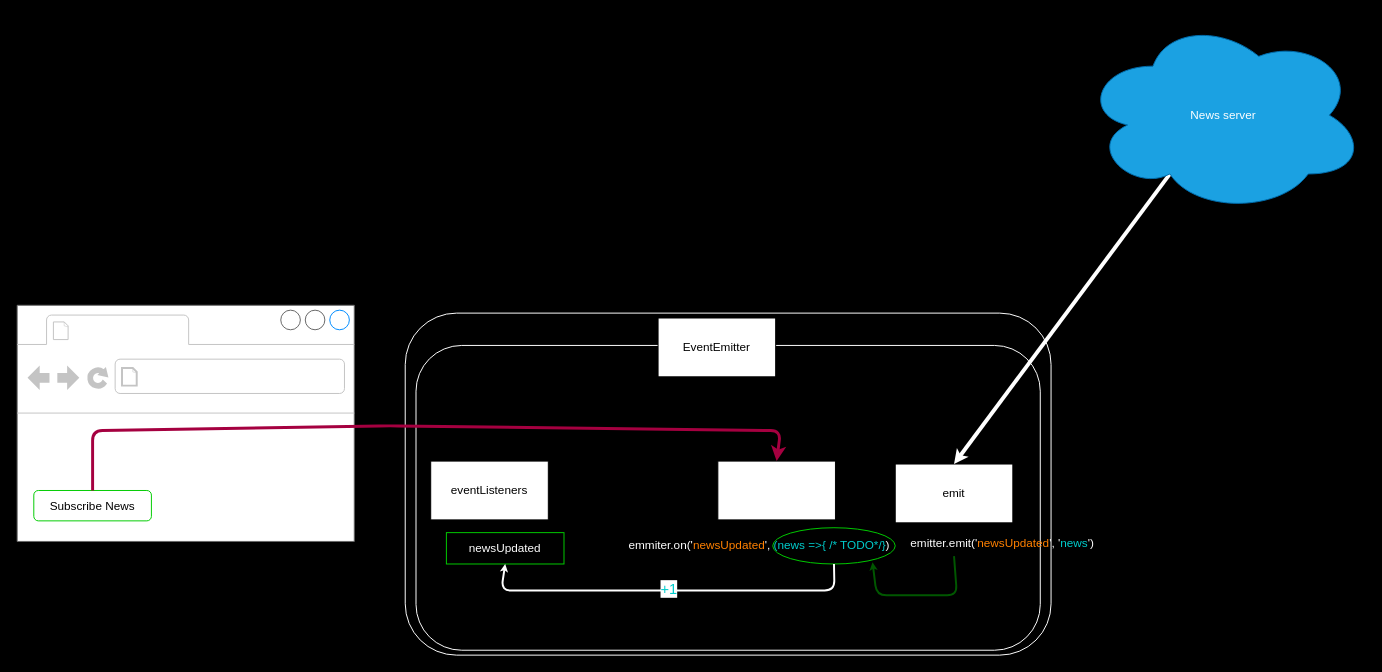
This 1382x672 diagram has some shape labels left out. Each missing label, with the box of its shape:
https://application.io: (144, 363, 390, 390)
myApplication: (75, 316, 184, 343)
on: (717, 460, 835, 520)
